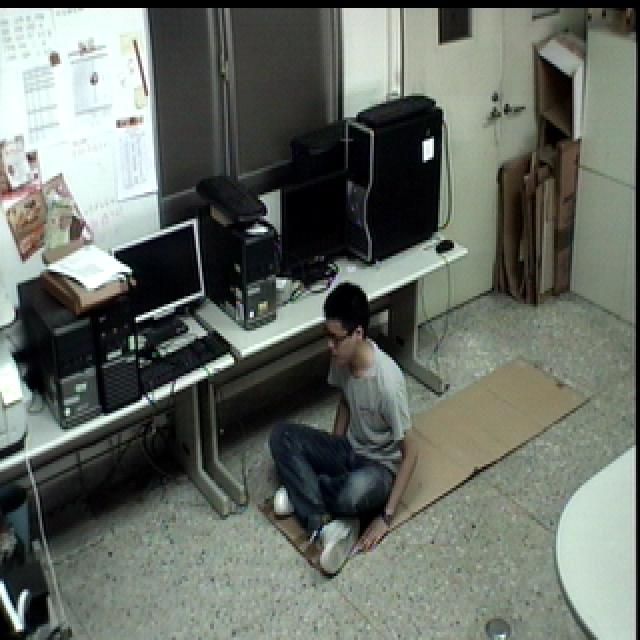sit: (262, 280, 423, 579)
